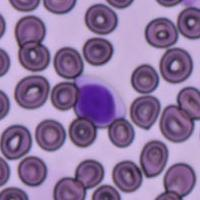L: (72, 74, 127, 128)
